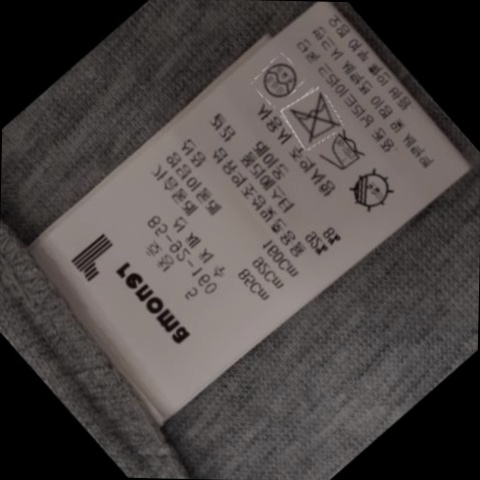DN_wash: (286, 96, 338, 140)
dry_clean_petrol_only: (258, 59, 299, 98)
iron_low: (321, 134, 367, 173)
line_dry_in_shade: (343, 171, 393, 211)
